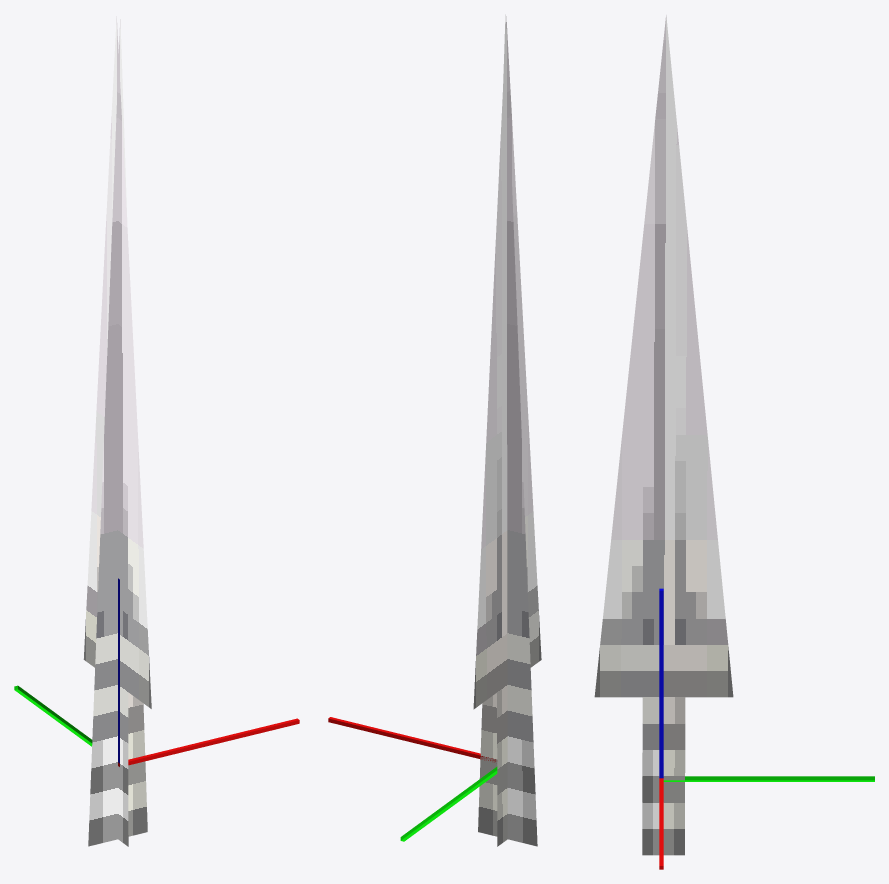
The model's file is sword.glb.
The picture shows the model from 3 angles, left to right: view 1: azimuth 30°, elevation 25°; view 2: azimuth 150°, elevation 25°; view 3: azimuth 270°, elevation 25°; orthographic projection. The views are drawn at different scales.
Visible parts, largest first — view 1: attachments g sword standardModel, Dummy_hotspot; view 2: attachments g sword standardModel, Dummy_hotspot; view 3: attachments g sword standardModel, Dummy_hotspot.
Boxes of the visible parts, left/top/right/bottom form: attachments g sword standardModel: left=83, top=16, right=151, bottom=846; Dummy_hotspot: left=14, top=578, right=299, bottom=766; attachments g sword standardModel: left=473, top=14, right=541, bottom=846; Dummy_hotspot: left=328, top=717, right=497, bottom=841; attachments g sword standardModel: left=594, top=15, right=733, bottom=855; Dummy_hotspot: left=659, top=588, right=874, bottom=869.
Bounding box in the file's own units: 0.2915 × 1.1 × 0.3511.
2 materials, 1 textured.
